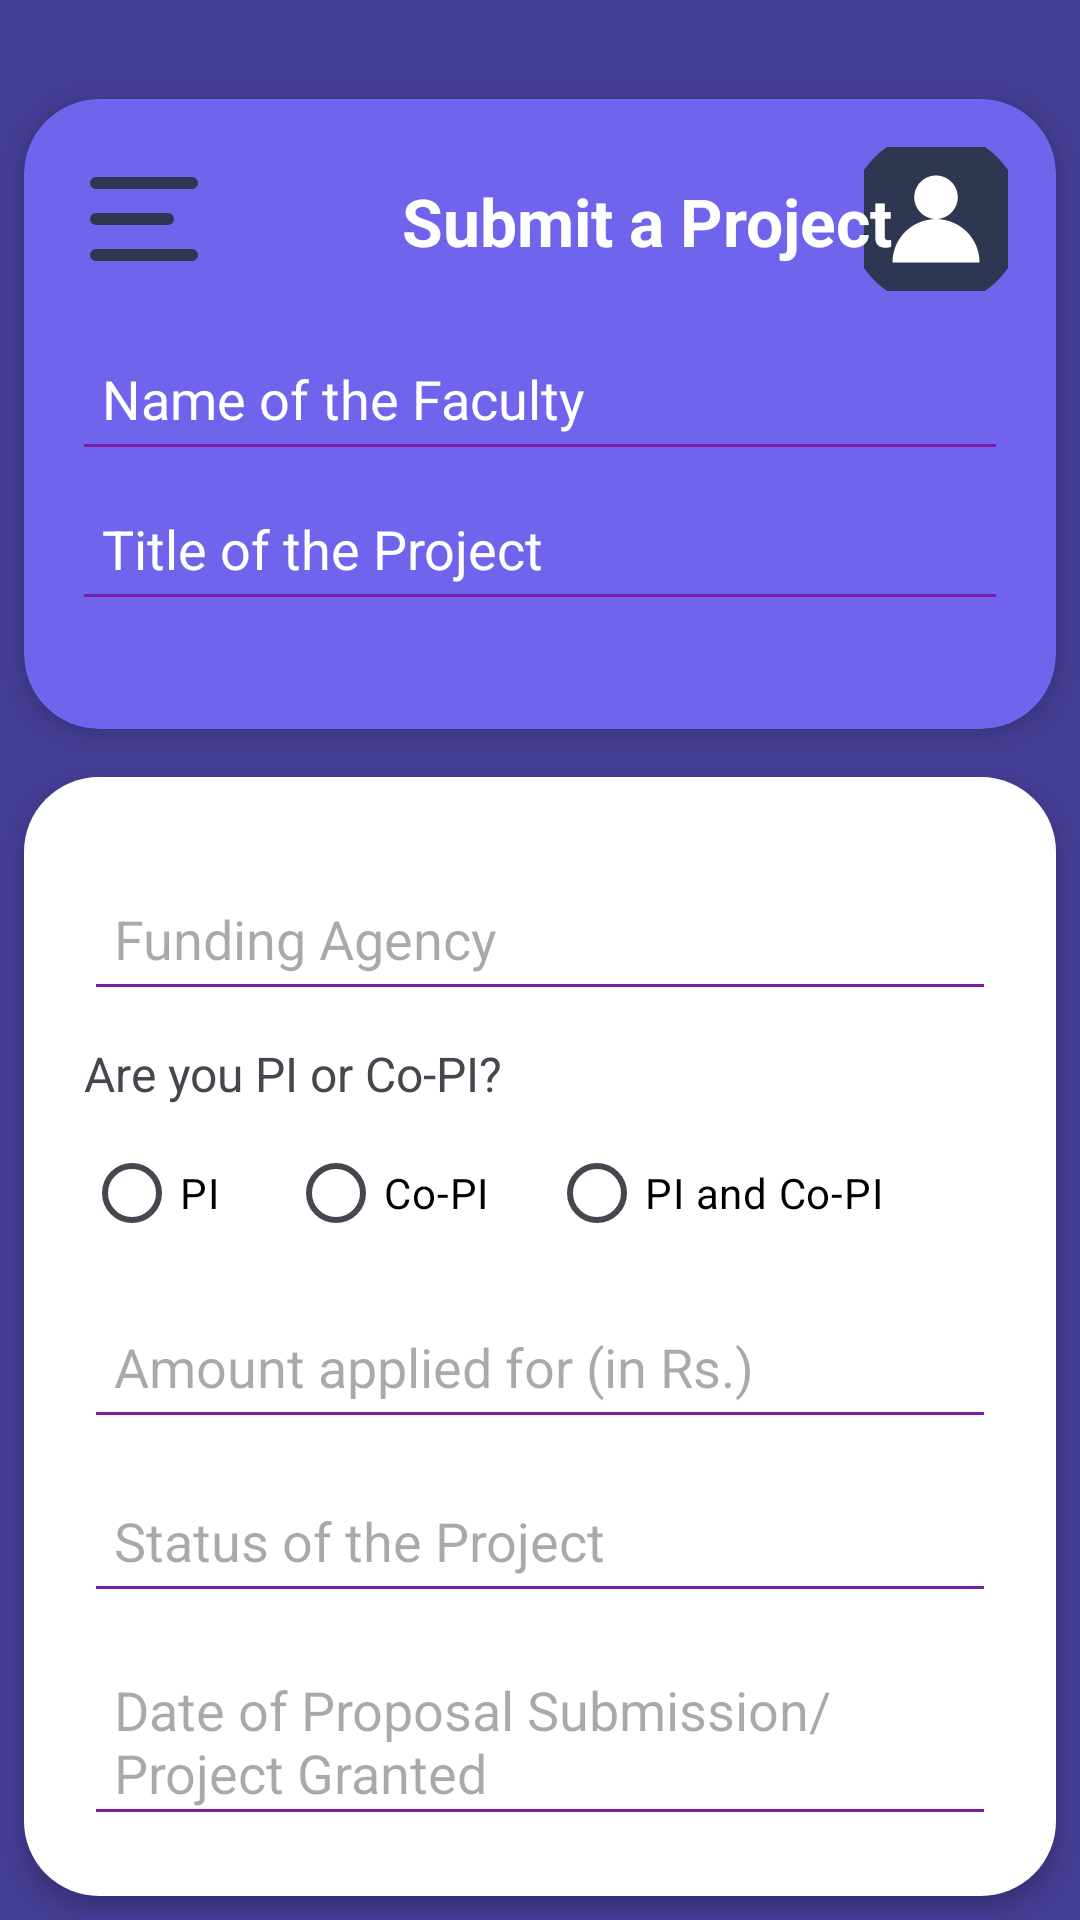

Icon bounding boxes for this 1080 × 1920 phone screenshot, format (x1, y1, x2, y2):
Hamburger Menu: (90, 177, 198, 261)
User Profile: (864, 147, 1008, 291)
